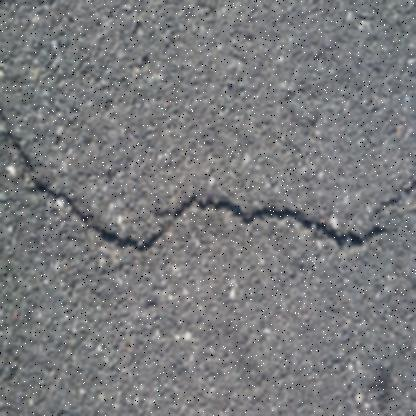Cracks: (0, 88, 415, 267)
